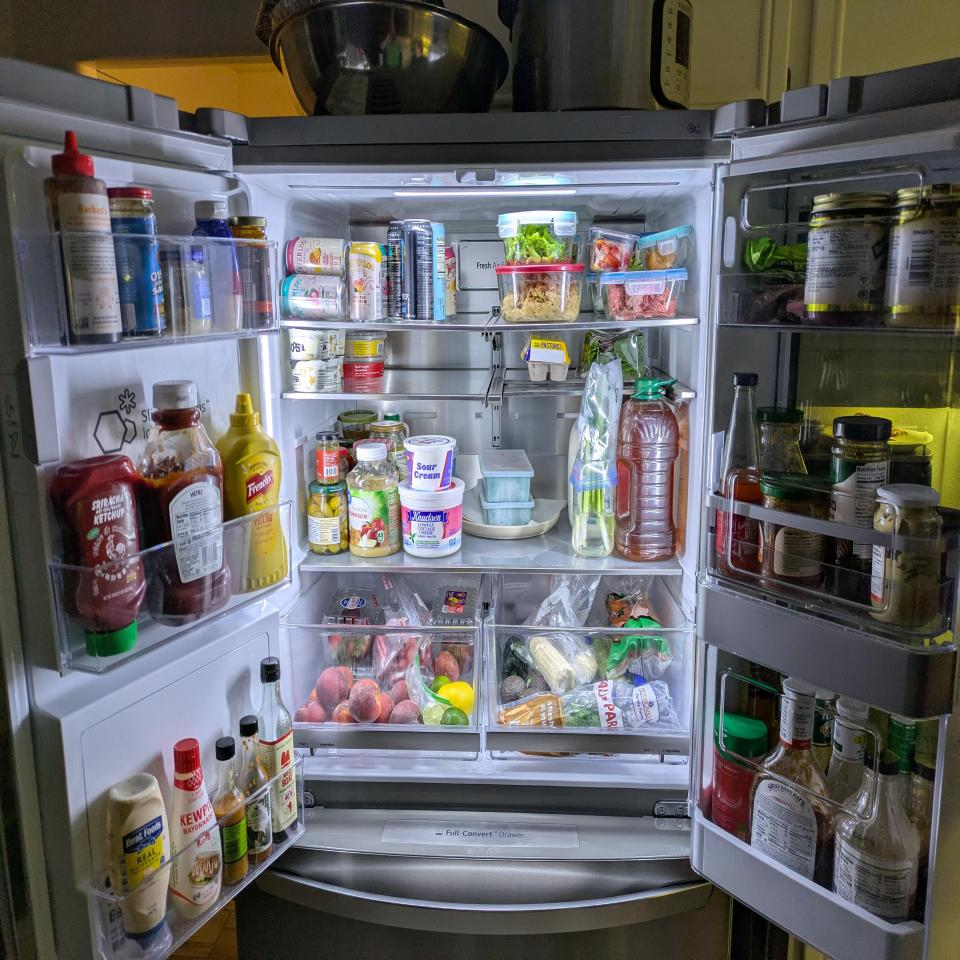Aguacate: (501, 674, 524, 704)
Huevos: (521, 331, 570, 382)
Limón: (436, 682, 475, 714)
Manzana: (350, 678, 381, 721)
Yogur: (402, 436, 456, 490)
